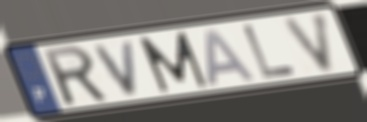A: (203, 26, 260, 88)
L: (239, 23, 299, 81)
M: (135, 29, 211, 95)
R: (39, 43, 112, 109)
V: (280, 9, 335, 75), (91, 38, 142, 98)
